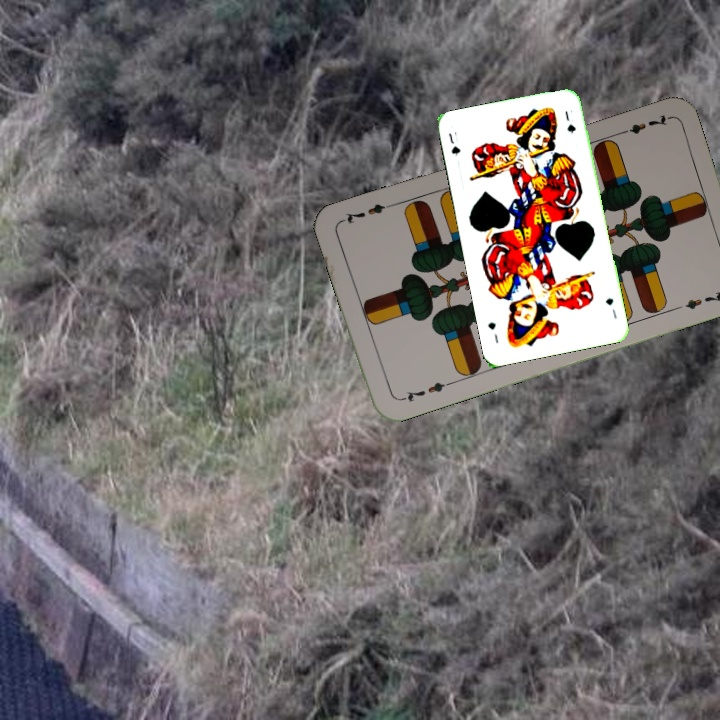E7: (614, 110, 671, 138), (395, 378, 453, 404)
GU: (444, 127, 463, 159), (601, 294, 619, 321)
